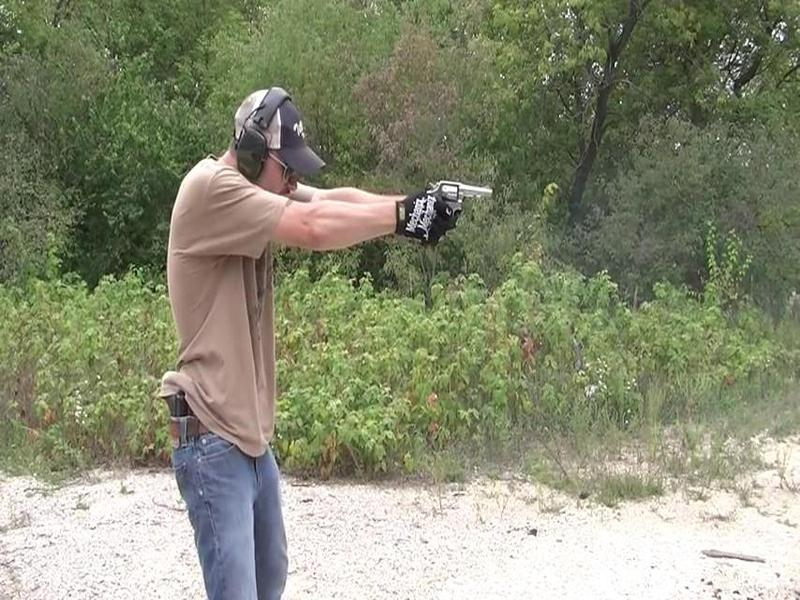Revolver: (409, 173, 496, 234)
